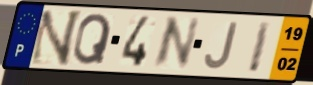4: (119, 14, 152, 69)
I: (245, 20, 274, 75)
J: (203, 21, 240, 72)
N: (26, 9, 85, 67), (149, 16, 203, 71)
Q: (71, 12, 114, 67)
